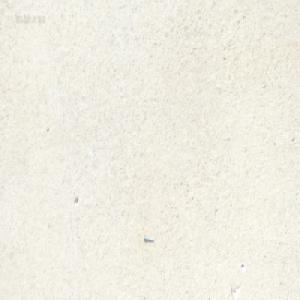Nail: (143, 235, 154, 243)
